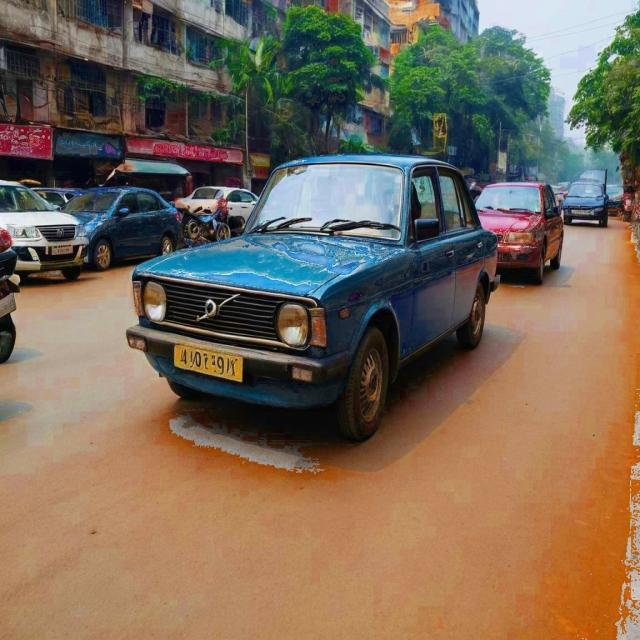blue: (114, 147, 505, 449), (56, 186, 186, 269)
maroon: (466, 182, 563, 284)
white: (0, 174, 88, 309)
